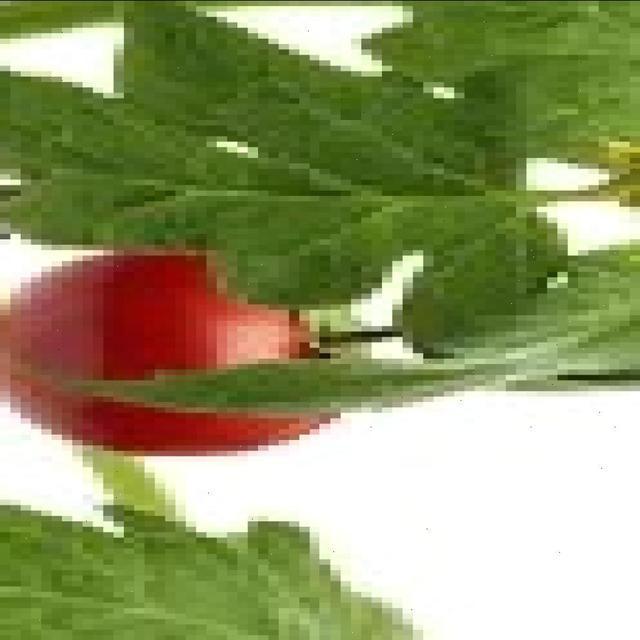Healthy Fruit: (0, 170, 255, 307)
